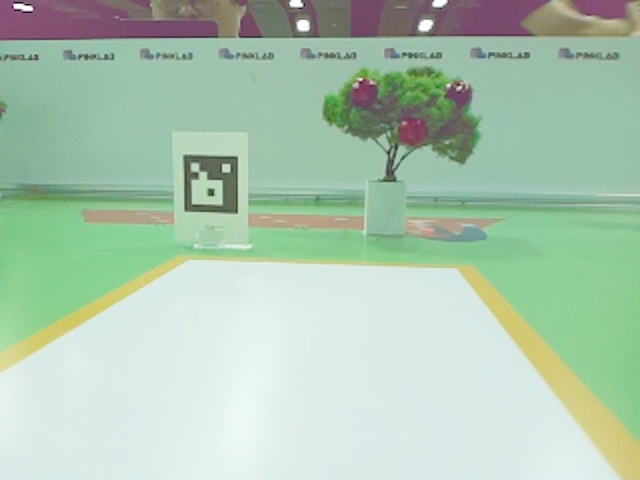apple: (338, 72, 385, 112), (441, 76, 479, 114), (393, 113, 431, 149)
